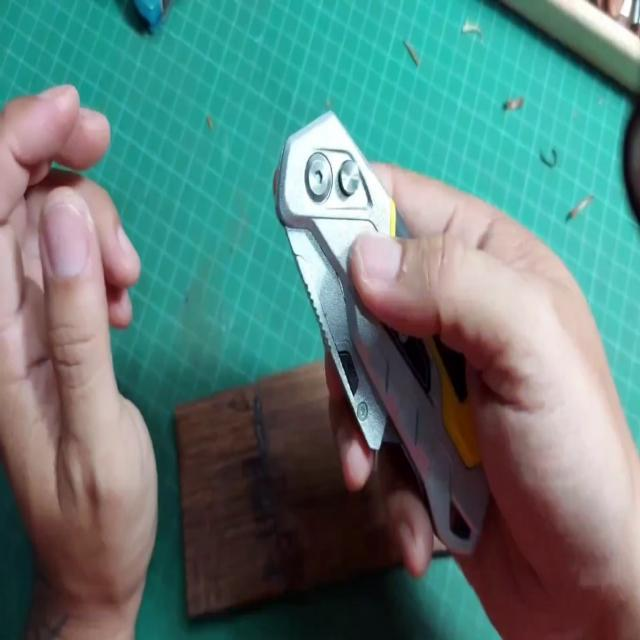cutter: (257, 43, 640, 640)
